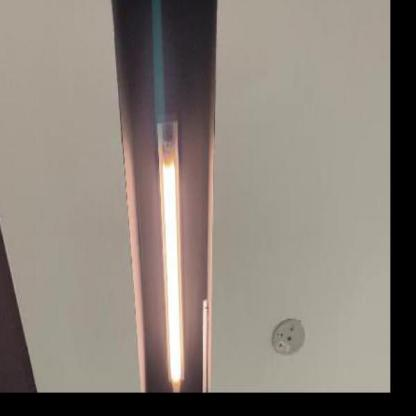light_on: (148, 90, 192, 399)
